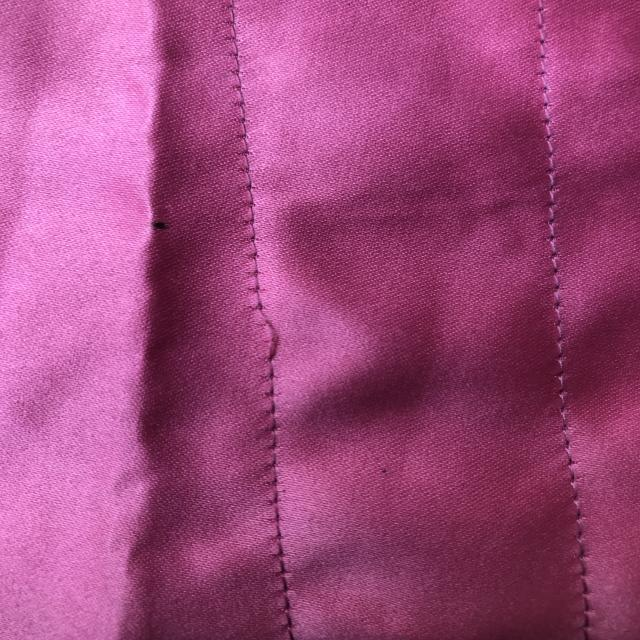skip: (226, 286, 295, 371)
